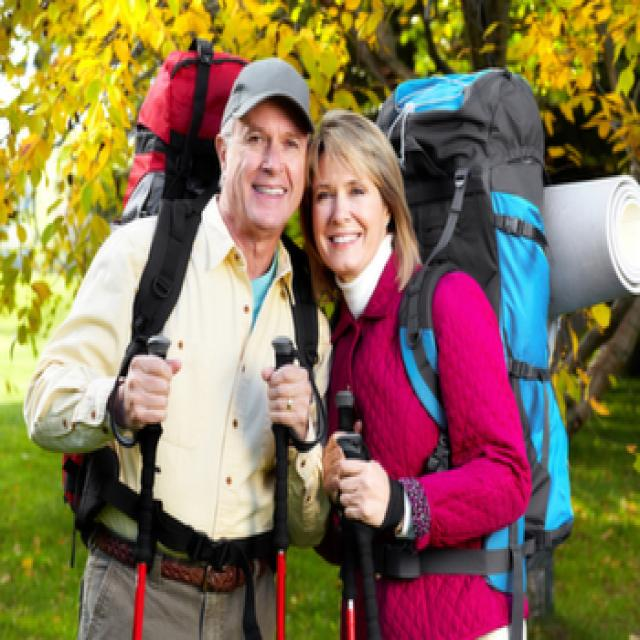backpack: (374, 66, 575, 619), (55, 44, 252, 555)
